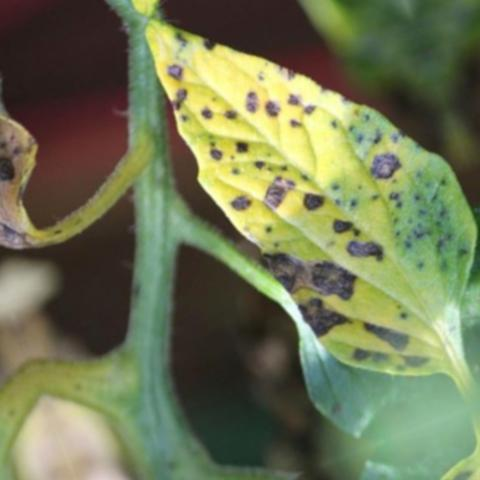Tomato Septoria leaf spot: (119, 0, 480, 436)
